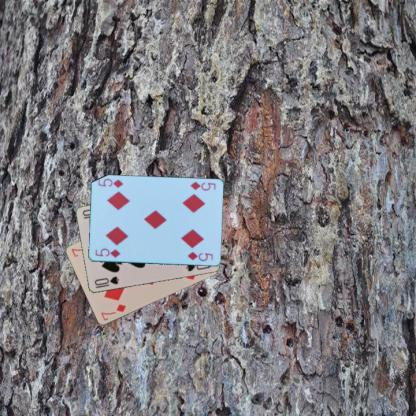10s: (92, 274, 120, 286)
5d: (92, 246, 121, 259), (188, 179, 216, 192)
7d: (98, 301, 127, 322)
